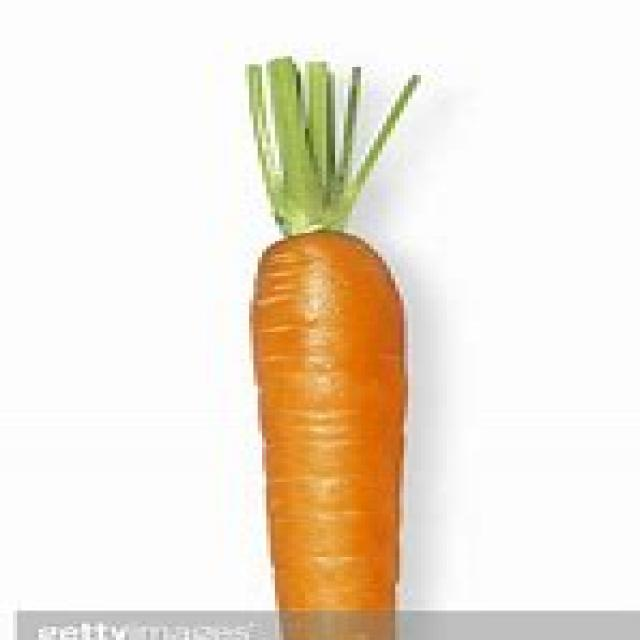Carrot: (252, 233, 416, 640)
